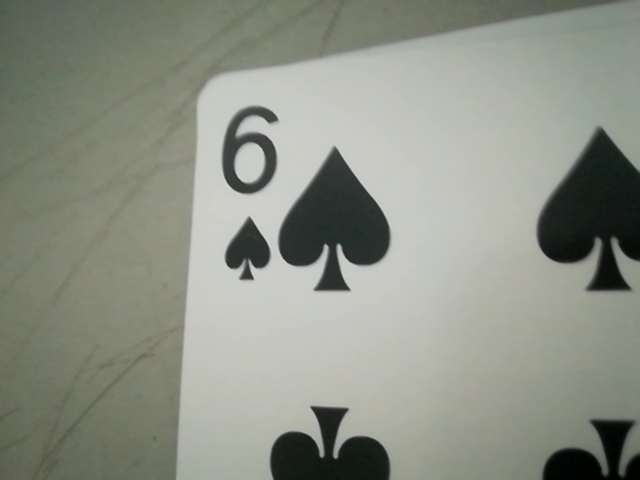ht 6: (204, 92, 279, 289)
